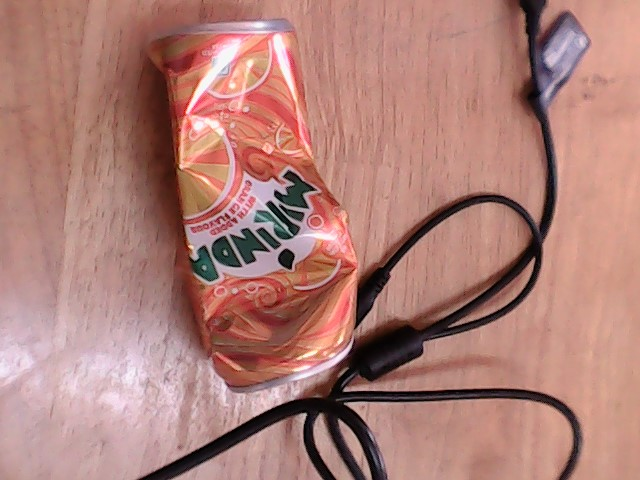Metal: (145, 36, 353, 393)
